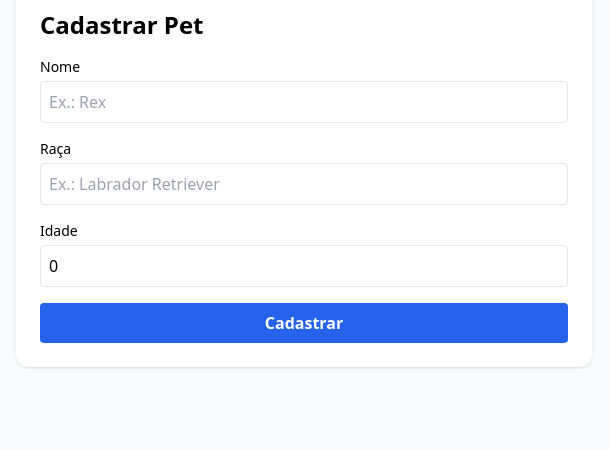
Test: PetCreate › mostra mensagem do backend quando a API falha (axios-like)
This screenshot has width=609, height=449.
Type "Rex" into the field with placeholder "Ex.: Rex" at (304, 102), box [40,81,568,123]
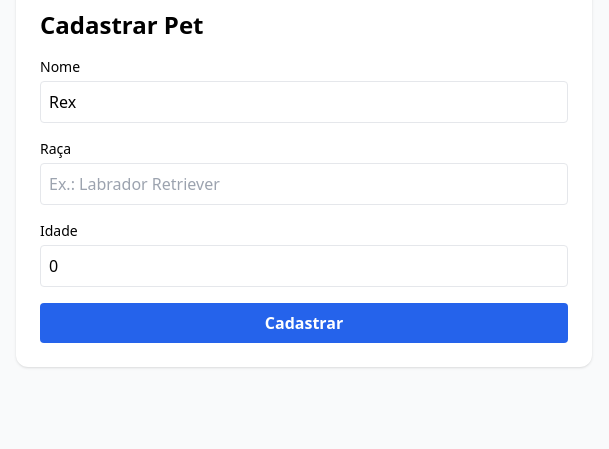
Type "Labrador Retriever" into the field with placeholder "Ex.: Labrador Retriever" at (304, 184), box [40,163,568,205]
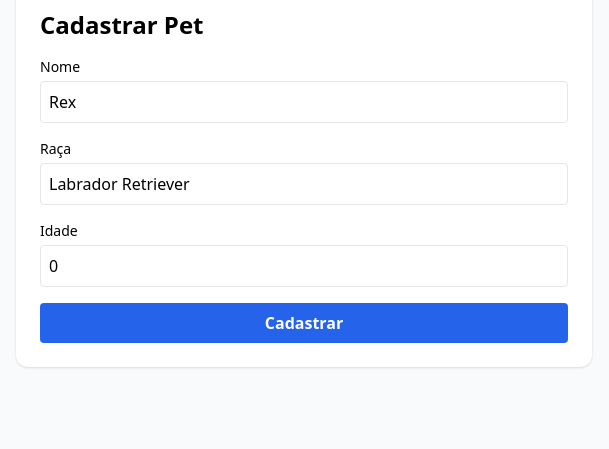
Replace the text in the number field with "1" at (304, 266), box [40,245,568,287]
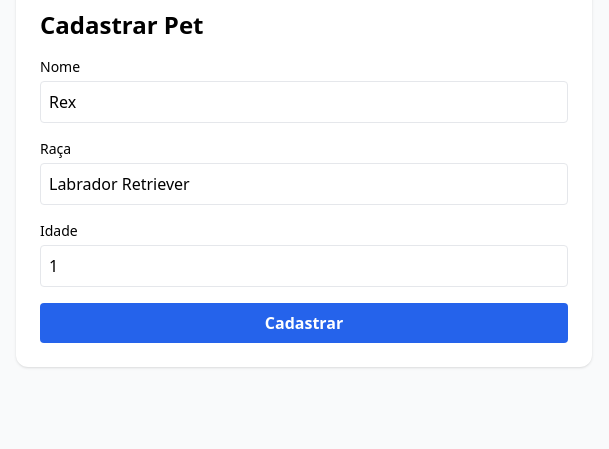
Click the button "Cadastrar" at (304, 323), box [40,303,568,343]
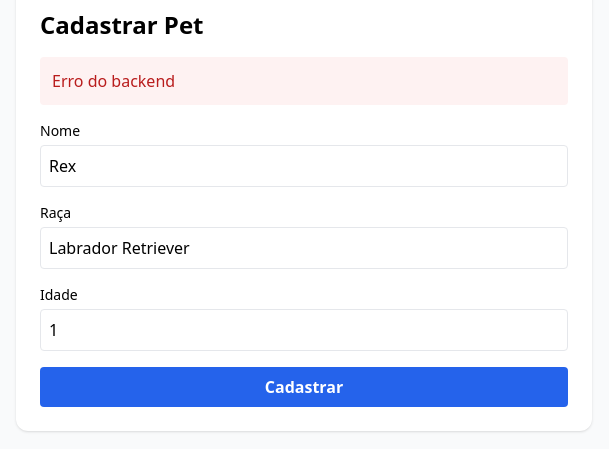
Now the text "Erro do backend" is shown, box [40,57,568,105]
